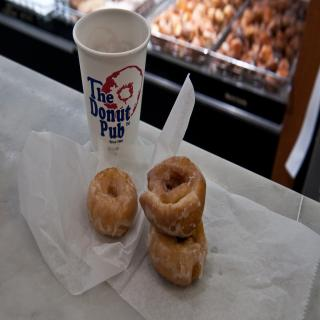Doughnut: (138, 157, 206, 236), (147, 219, 205, 289), (86, 165, 138, 237)
